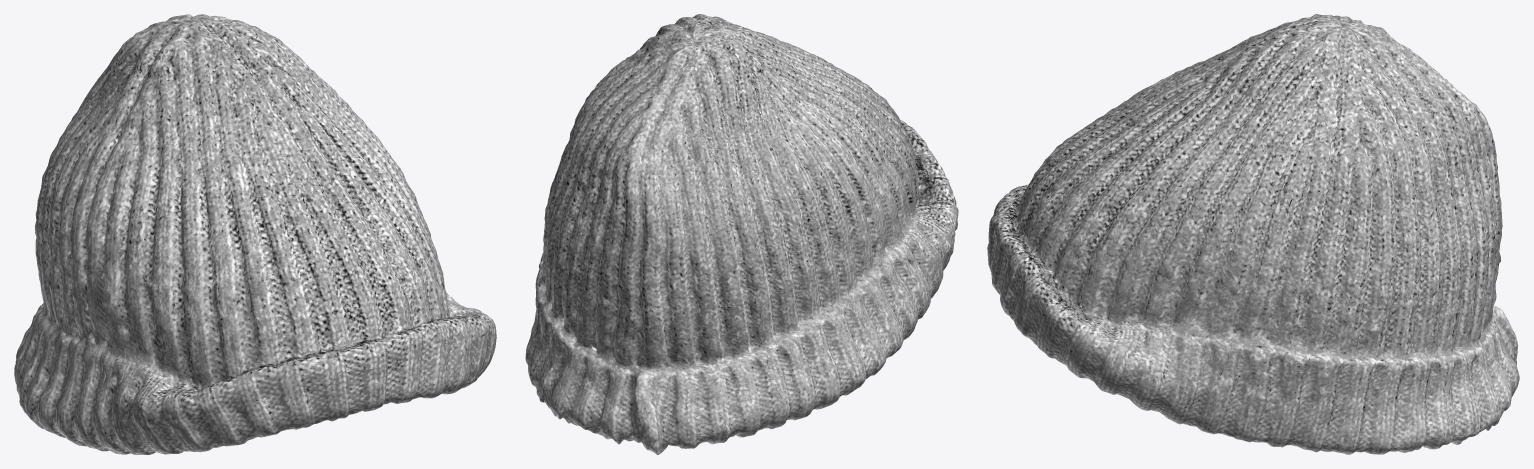
Rendered from beanie.glb.
3 views of the same model, side by side, from view 1: azimuth 30°, elevation 25°; view 2: azimuth 150°, elevation 25°; view 3: azimuth 270°, elevation 25° (orthographic). The views are drawn at different scales.
Parts seen in each view (by area): view 1: Object_2; view 2: Object_2; view 3: Object_2.
Part boxes in pixels (x1,y1,x2,y2): Object_2: (14,14,496,454); Object_2: (525,14,958,454); Object_2: (987,14,1519,454).
Bounding box in the file's own units: 167 × 173 × 218.
Materials: 1 (1 with a texture image).
